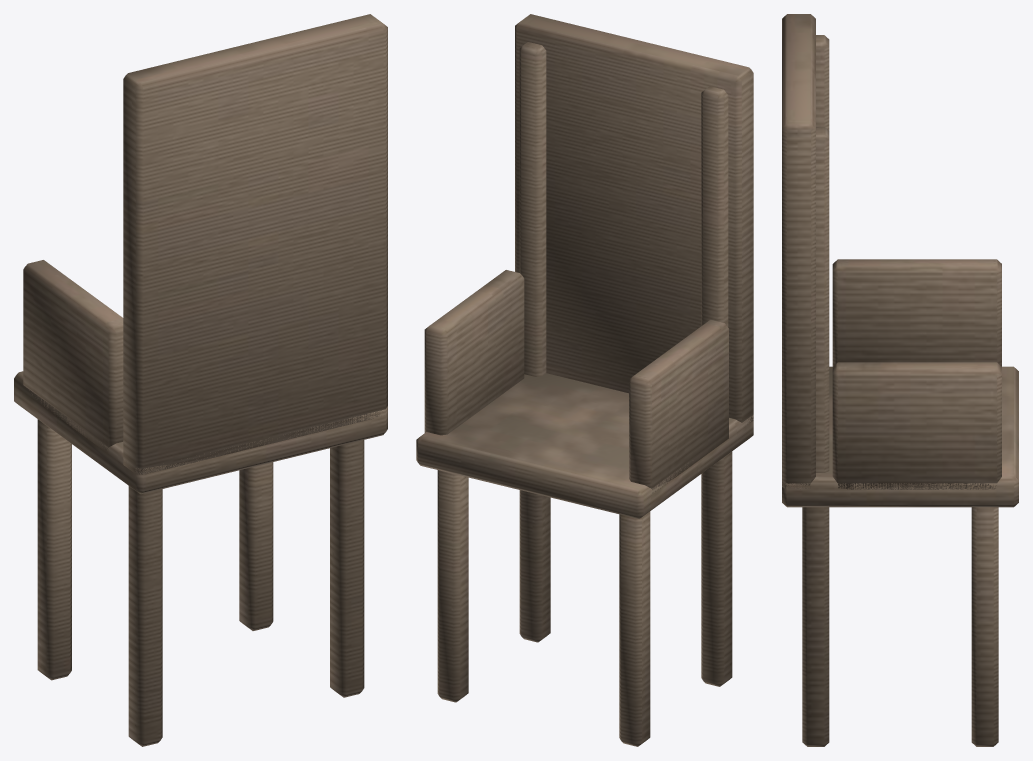
The model's file is high-seat.glb.
3 renders of one model, left to right at view 1: azimuth 30°, elevation 25°; view 2: azimuth 150°, elevation 25°; view 3: azimuth 270°, elevation 25°, orthographic. The views are drawn at different scales.
Visible parts, largest first — view 1: high_seat; view 2: high_seat; view 3: high_seat.
Boxes of the visible parts, x1,y1,x2,y2 form: high_seat: (14, 14, 387, 746); high_seat: (416, 14, 753, 746); high_seat: (782, 14, 1018, 746).
Bounding box in the file's own units: 0.8 × 2.05 × 0.7.
Materials: 1 (1 with a texture image).
